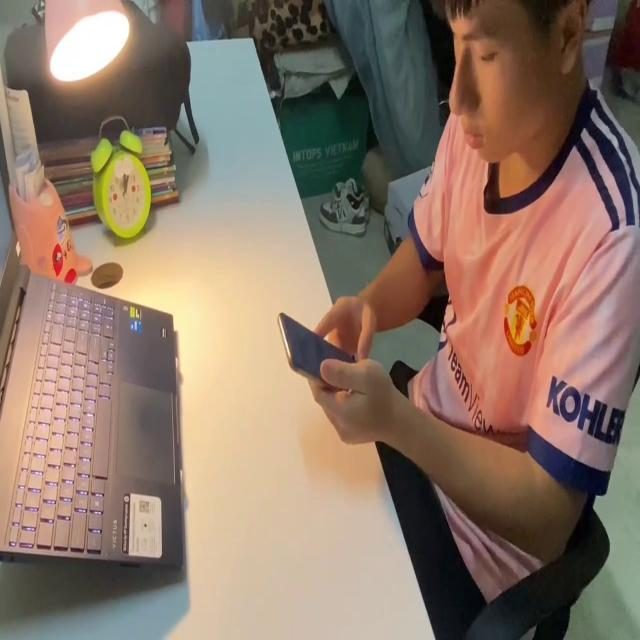laptop: (0, 159, 190, 580)
phone: (276, 309, 364, 393)
student: (301, 0, 640, 619)
